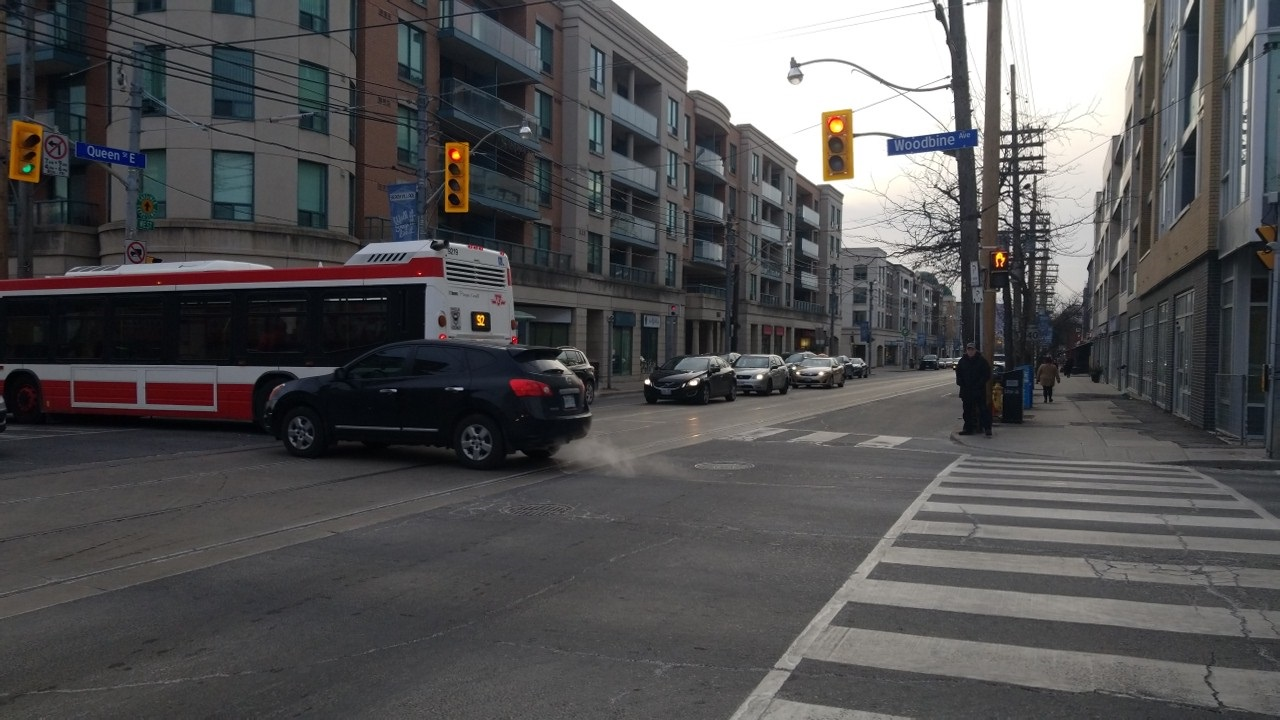light: (986, 247, 1009, 290)
